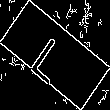L_NE: (30, 25, 80, 85)
